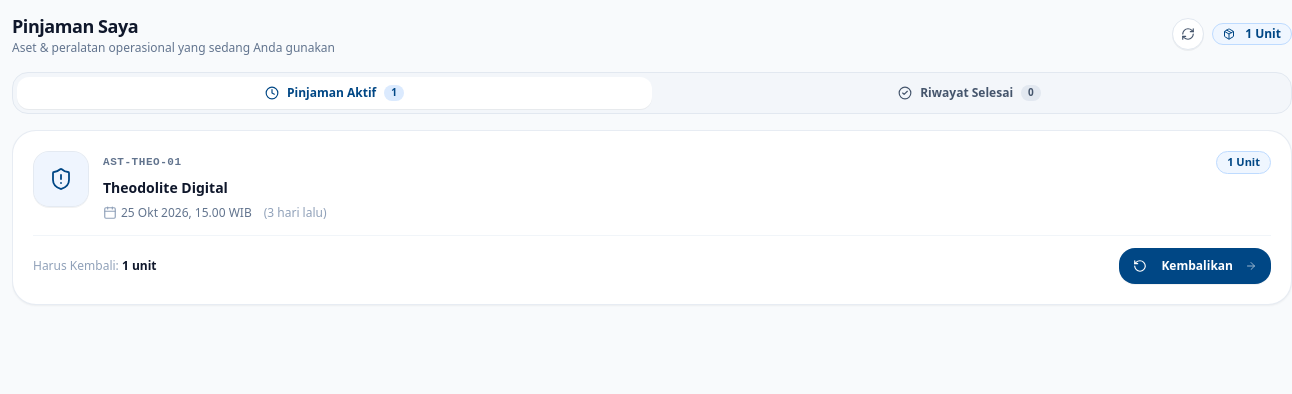
Test case: Task P4.5: Full Asset Loans Lifecycle & Empty State Integration Suite › 1. Empty States & Error Resilience › renders contextual empty state on history tab when no loans are completed
Expected: the heading "Theodolite Digital" is shown, [103, 178, 228, 196]
Click the button "Riwayat Selesai 0".
click(970, 93)  # box [652, 77, 1287, 109]
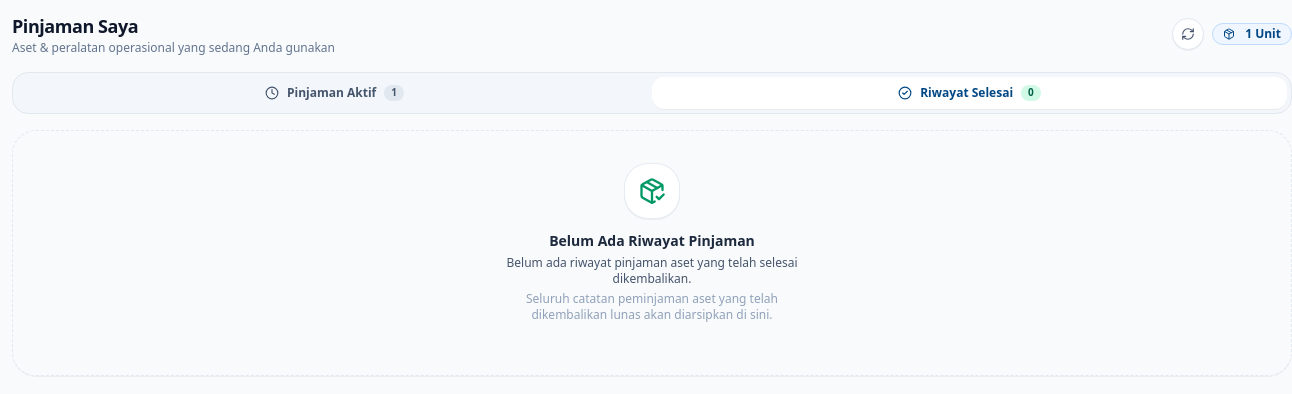
Now the heading "Belum Ada Riwayat Pinjaman" is shown, box [549, 231, 755, 251]
Now the text "Belum ada riwayat pinjaman aset yang telah selesai dikembalikan." is shown, box [492, 255, 812, 287]
